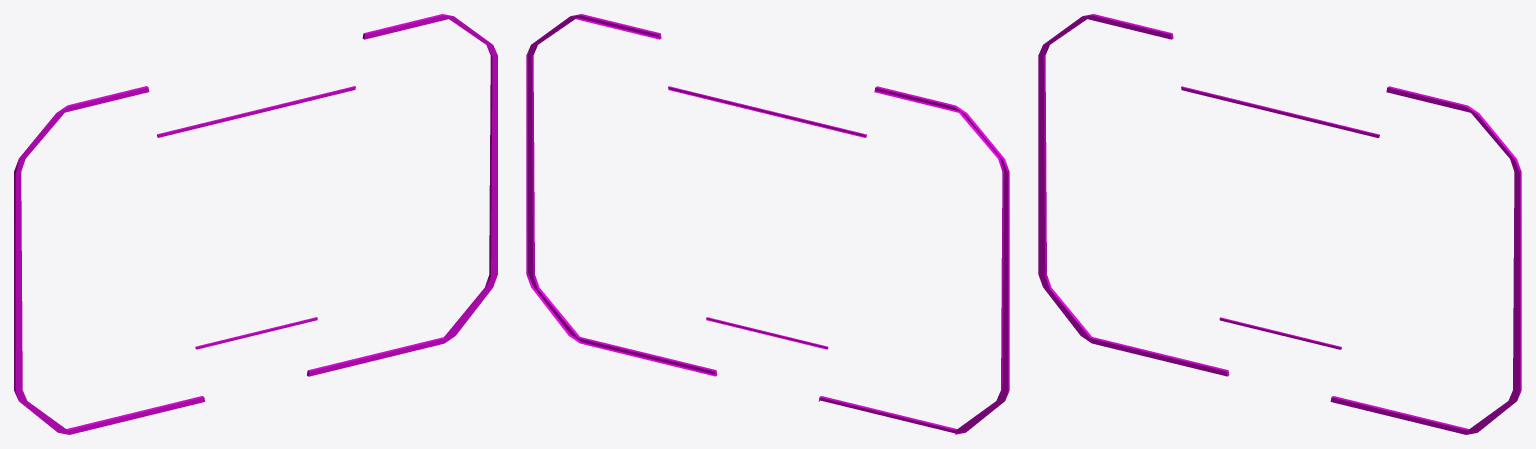
File: closet_door light.fbx
3 renders of one model, left to right at view 1: azimuth 30°, elevation 25°; view 2: azimuth 150°, elevation 25°; view 3: azimuth 330°, elevation 25°, orthographic.
Visible parts, largest first — view 1: closet_light_Low; view 2: closet_light_Low; view 3: closet_light_Low.
Boxes of the visible parts, x1,y1,x2,y2 form: closet_light_Low: [14, 14, 497, 434]; closet_light_Low: [526, 14, 1009, 434]; closet_light_Low: [1038, 14, 1521, 434].
Size of the model in its own units: 399 by 260 by 2.84.
